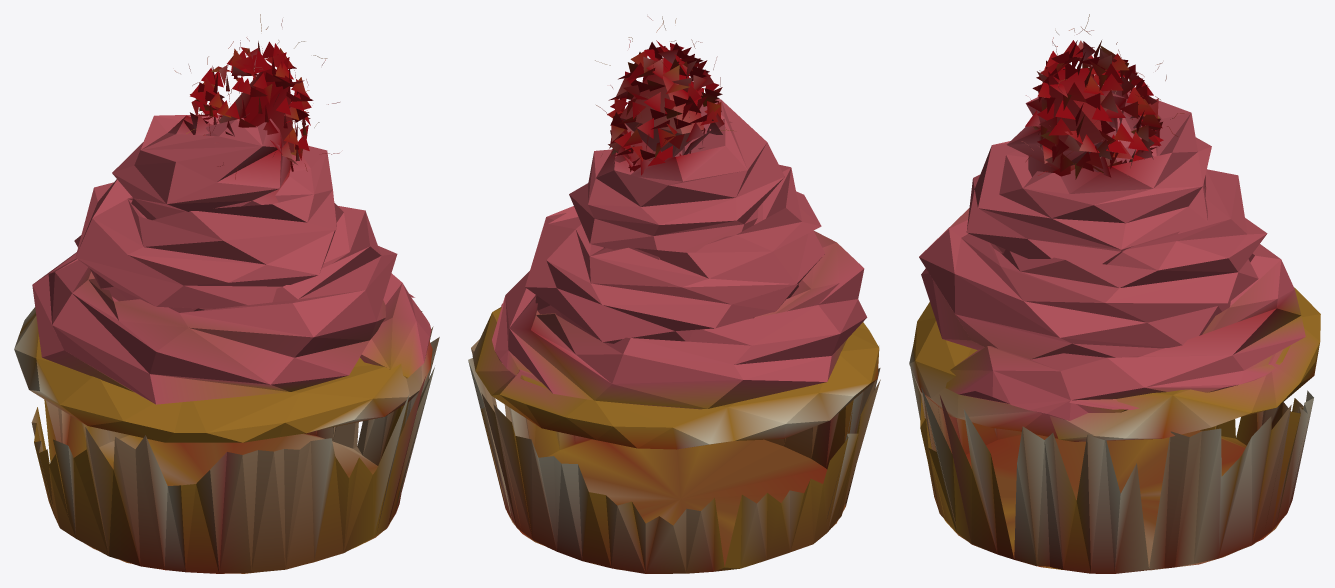
The model's file is cupcake.glb.
3 views of the same model, side by side, from view 1: azimuth 30°, elevation 25°; view 2: azimuth 150°, elevation 25°; view 3: azimuth 270°, elevation 25° (orthographic). The views are drawn at different scales.
Parts seen in each view (by area): view 1: geometry_0; view 2: geometry_0; view 3: geometry_0.
Boxes of the visible parts, x1,y1,x2,y2 form: geometry_0: [14, 14, 439, 573]; geometry_0: [468, 16, 880, 573]; geometry_0: [909, 14, 1320, 573].
Bounding box in the file's own units: 0.6714 × 0.8502 × 0.6368.
